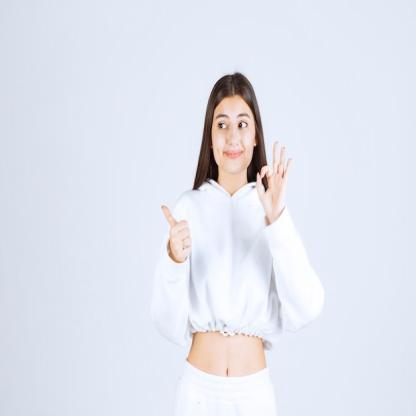ok: (254, 138, 294, 223)
thumb_up: (155, 200, 197, 266)
